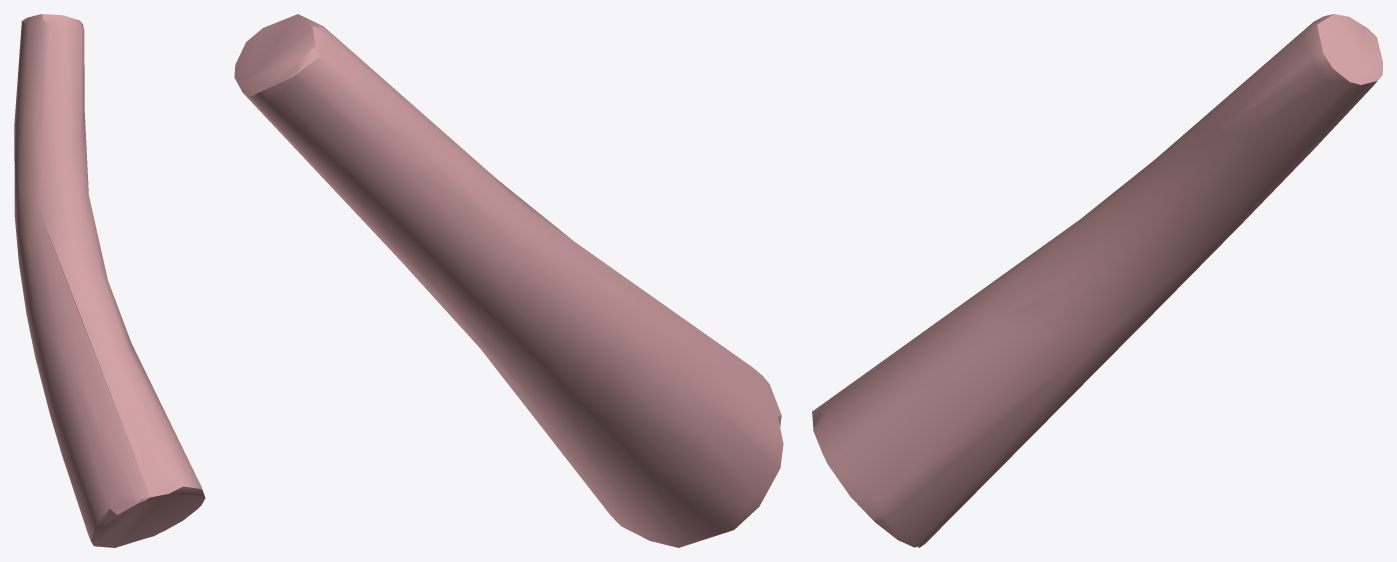
File: fma68211_fj2524.glb
3 renders of one model, left to right at view 1: azimuth 30°, elevation 25°; view 2: azimuth 150°, elevation 25°; view 3: azimuth 270°, elevation 25°, orthographic. The views are drawn at different scales.
Parts seen in each view (by area): view 1: FMA68211_FJ2524; view 2: FMA68211_FJ2524; view 3: FMA68211_FJ2524.
Part boxes in pixels (left/top/right/bottom): FMA68211_FJ2524: left=14, top=14, right=205, bottom=547; FMA68211_FJ2524: left=234, top=14, right=783, bottom=547; FMA68211_FJ2524: left=812, top=14, right=1382, bottom=547.
Size of the model in its own units: 0.00431 by 0.0107 by 0.00977.
